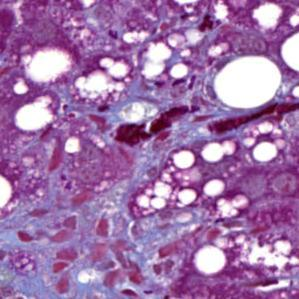steatosis: (215, 57, 285, 110)
